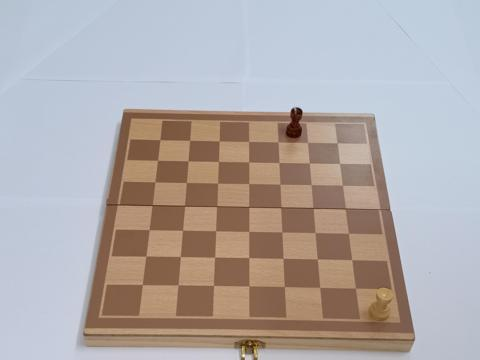xcorner: (274, 180, 284, 190), (278, 254, 288, 264), (337, 181, 347, 191), (154, 137, 164, 146), (149, 179, 159, 188), (147, 201, 156, 211), (137, 280, 147, 289), (182, 157, 191, 167), (177, 226, 186, 236), (213, 137, 222, 147), (212, 158, 222, 167), (212, 179, 221, 189), (211, 202, 220, 212), (209, 253, 219, 262), (208, 281, 218, 290), (243, 158, 252, 168), (243, 203, 253, 212), (276, 203, 285, 213), (310, 229, 320, 238), (316, 283, 325, 293), (331, 139, 341, 148), (334, 160, 344, 169), (344, 229, 353, 239), (152, 157, 161, 166), (144, 226, 153, 235), (141, 252, 150, 261), (184, 137, 193, 146), (181, 179, 190, 188), (179, 202, 188, 211), (175, 253, 184, 262), (173, 281, 182, 290), (210, 227, 219, 236), (243, 138, 252, 147), (243, 180, 252, 189), (244, 228, 253, 237), (244, 254, 253, 263), (244, 282, 253, 291), (272, 138, 281, 147), (273, 159, 282, 168), (277, 228, 286, 237), (280, 283, 289, 292), (302, 139, 311, 148), (304, 159, 313, 168), (306, 181, 315, 190), (308, 204, 317, 213), (313, 255, 322, 264), (341, 205, 350, 214), (348, 256, 357, 265), (352, 284, 361, 293)
